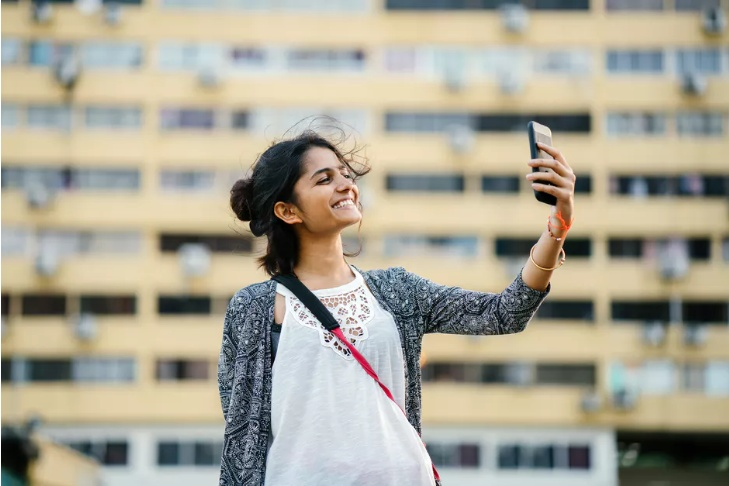face: (295, 149, 360, 233)
